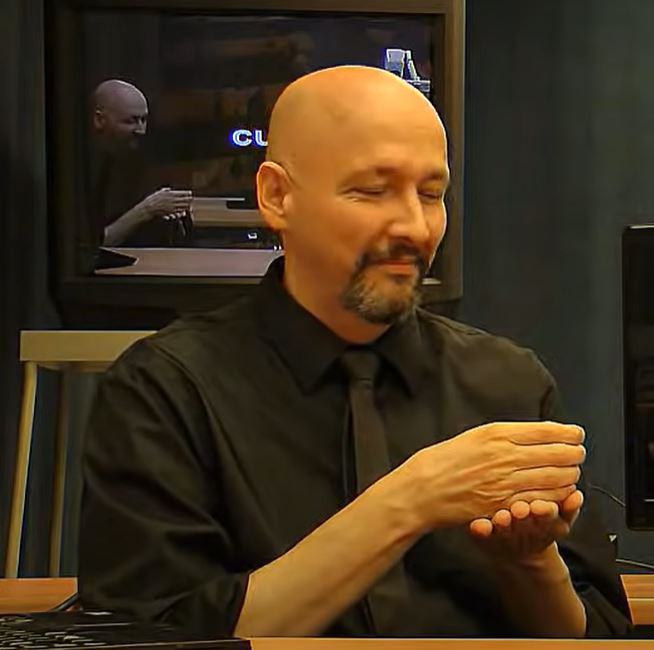Cup: (356, 400, 632, 570)
